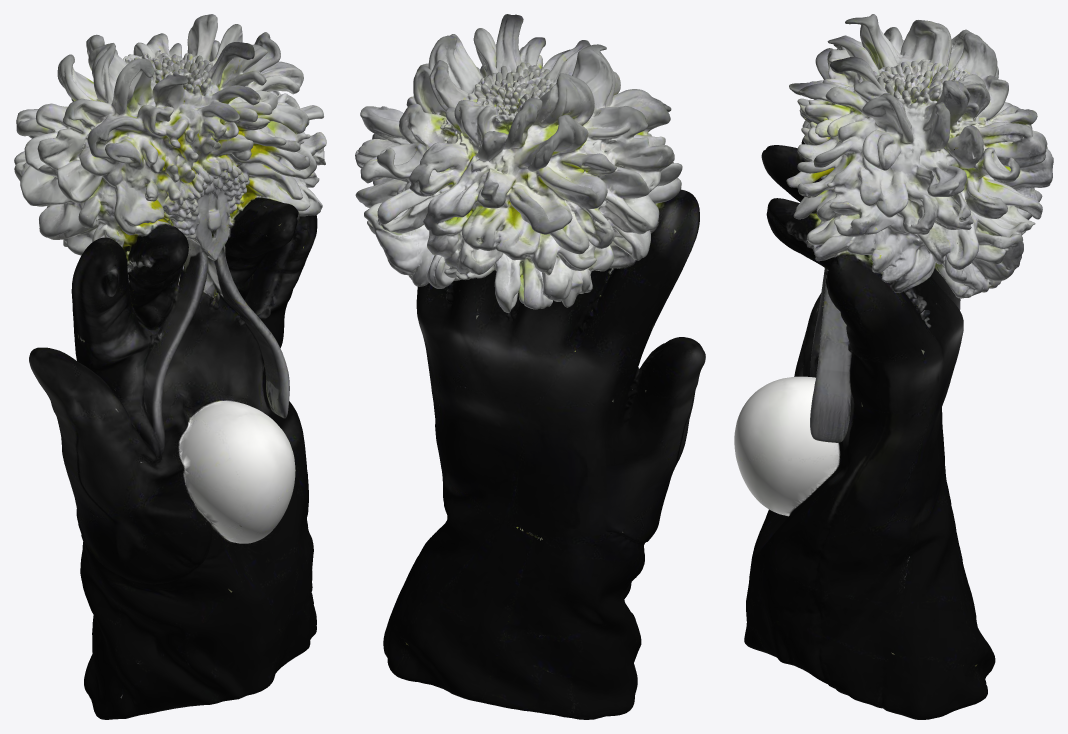
The model's file is track5-relic-textured-optimized.glb.
3 views of the same model, side by side, from view 1: azimuth 30°, elevation 25°; view 2: azimuth 150°, elevation 25°; view 3: azimuth 270°, elevation 25° (orthographic).
Size of the model in its own units: 0.9185 by 1.9 by 0.8432.
1 material, 1 textured.
